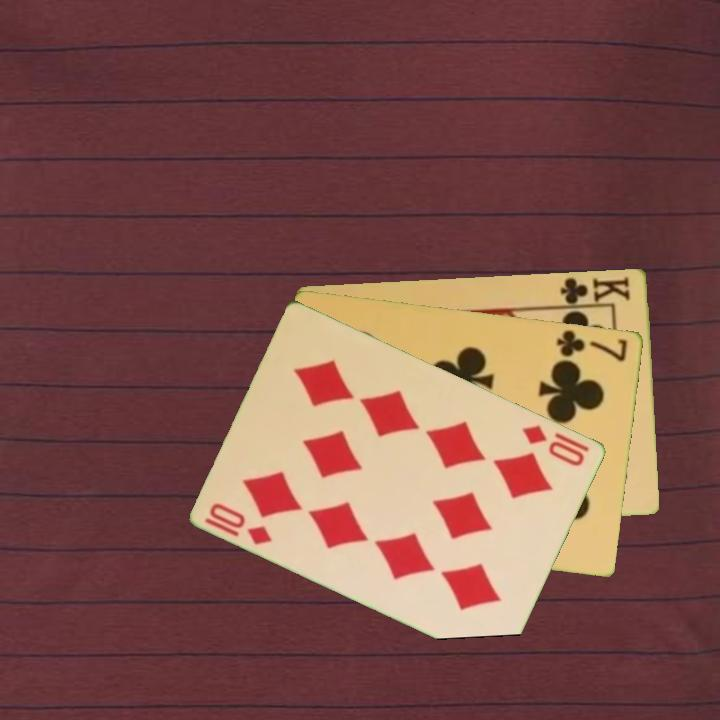10d: (201, 499, 276, 548), (519, 421, 588, 470)
7c: (554, 325, 631, 364)
Kc: (555, 273, 633, 309)
